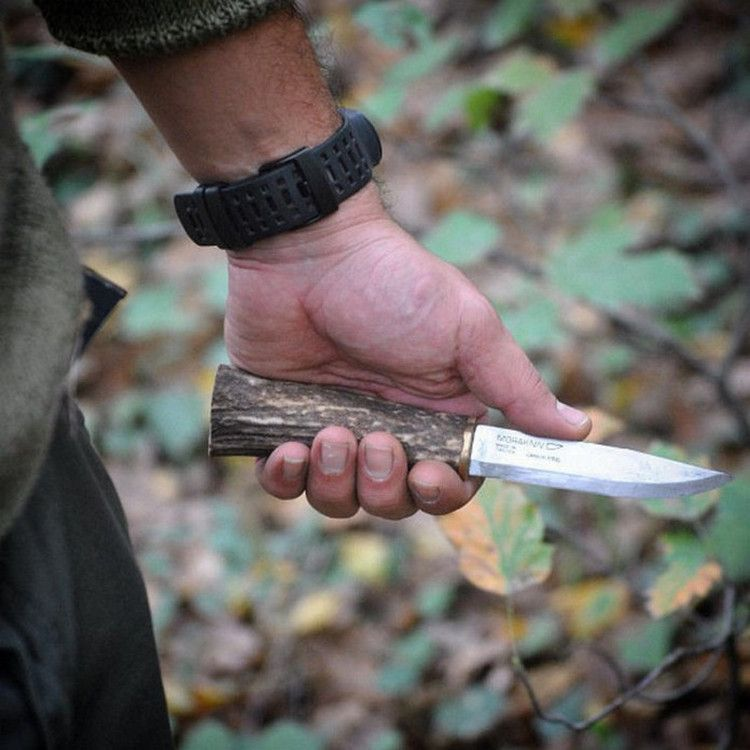knife: (192, 353, 738, 543)
